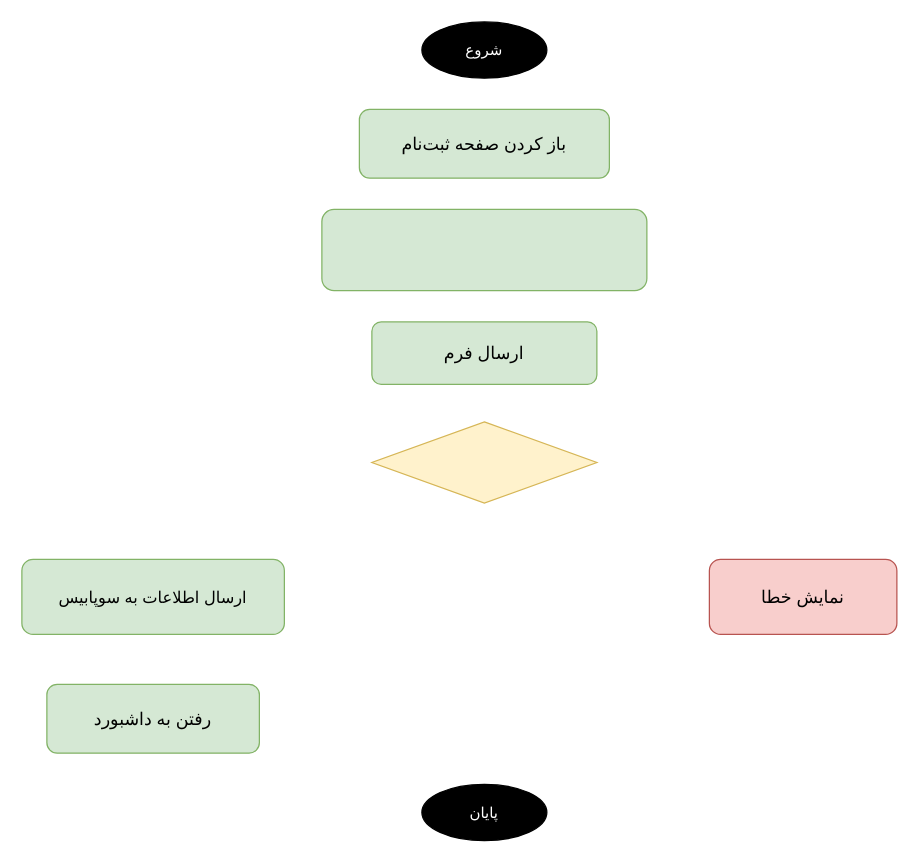
The diagram is 919 pixels wide and 863 high, and some of its shapes have lost their labels. Each missing label, with the box of its shape:
اطلاعات معتبر است؟: (371, 421, 597, 503)
وارد کردن نام کاربری، ایمیل و رمز: (321, 208, 647, 291)
